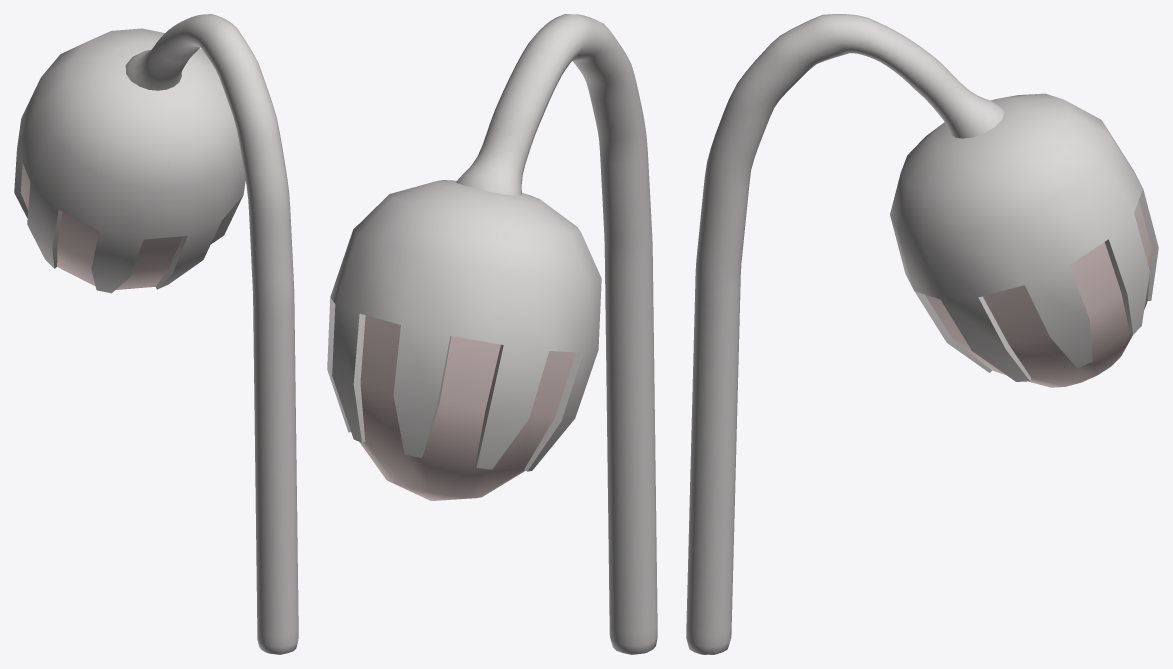
Rendered from WiltedFlowerBulb.fbx.
The picture shows the model from 3 angles, left to right: view 1: azimuth 30°, elevation 25°; view 2: azimuth 150°, elevation 25°; view 3: azimuth 270°, elevation 25°; orthographic projection. The views are drawn at different scales.
Visible parts, largest first — view 1: Bulb.007, Stem.003; view 2: Bulb.007, Stem.003; view 3: Bulb.007, Stem.003.
Boxes of the visible parts, box(x1,y1,x2,y2) form: Bulb.007: box(14, 28, 245, 293); Stem.003: box(125, 14, 298, 654); Bulb.007: box(327, 180, 601, 500); Stem.003: box(456, 14, 657, 654); Bulb.007: box(890, 93, 1158, 387); Stem.003: box(686, 14, 1004, 654).
Bounding box in the file's own units: 7.85 × 21.45 × 14.52.
